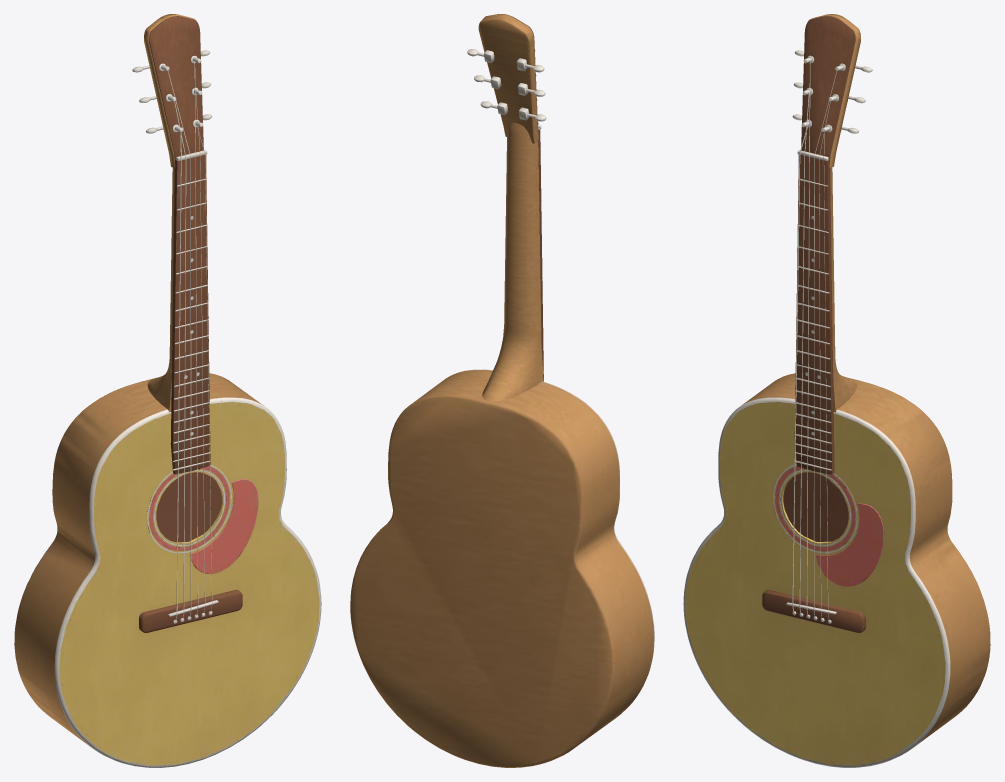
Rendered from acoustic-guitar.glb.
The picture shows the model from 3 angles, left to right: view 1: azimuth 30°, elevation 25°; view 2: azimuth 150°, elevation 25°; view 3: azimuth 330°, elevation 25°; orthographic projection.
Parts seen in each view (by area): view 1: acoustic-guitar_body, acoustic-guitar_neck, acoustic-guitar_strings; view 2: acoustic-guitar_body, acoustic-guitar_neck; view 3: acoustic-guitar_body, acoustic-guitar_neck, acoustic-guitar_strings.
Boxes of the visible parts, x1=… form: acoustic-guitar_body: x1=14, y1=373, x2=321, y2=767; acoustic-guitar_neck: x1=132, y1=14, x2=212, y2=474; acoustic-guitar_strings: x1=168, y1=61, x2=212, y2=621; acoustic-guitar_body: x1=350, y1=369, x2=654, y2=767; acoustic-guitar_neck: x1=467, y1=14, x2=546, y2=401; acoustic-guitar_body: x1=683, y1=373, x2=990, y2=767; acoustic-guitar_neck: x1=792, y1=14, x2=872, y2=474; acoustic-guitar_strings: x1=792, y1=61, x2=836, y2=620.
Size of the model in its own units: 0.4 by 1.06 by 0.1333.
Materials: 3 (2 with a texture image).
